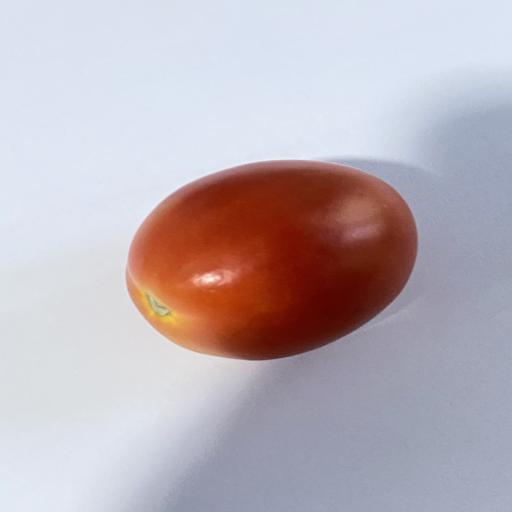ripe: (126, 161, 417, 360)
